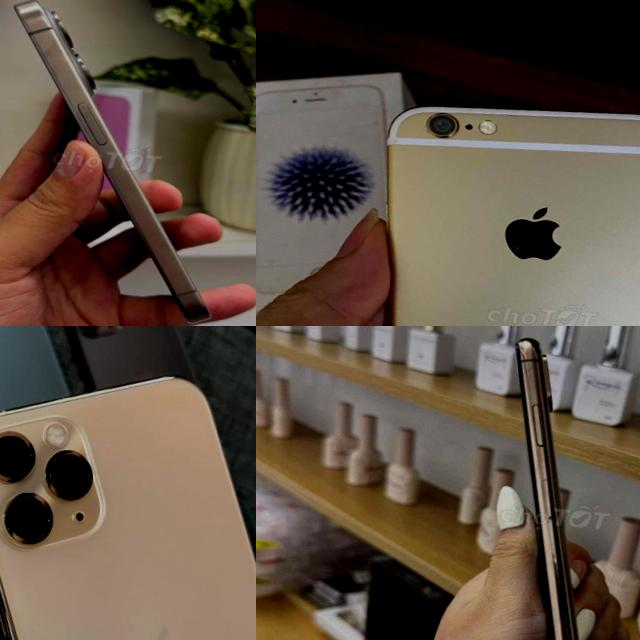scratch: (507, 307, 640, 326)
